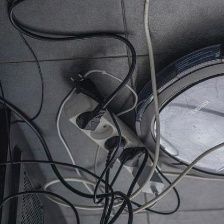three_eye_plug: (62, 87, 163, 180)
